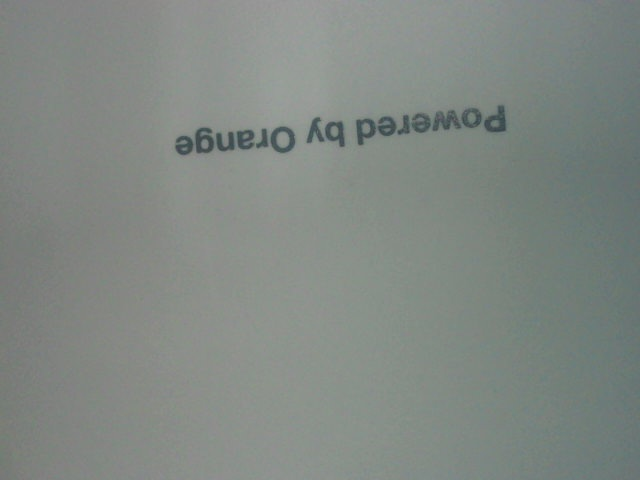AS_PowerByOrange: (160, 96, 516, 164)
